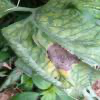Tomato Early blight leaf: (47, 5, 100, 39)
